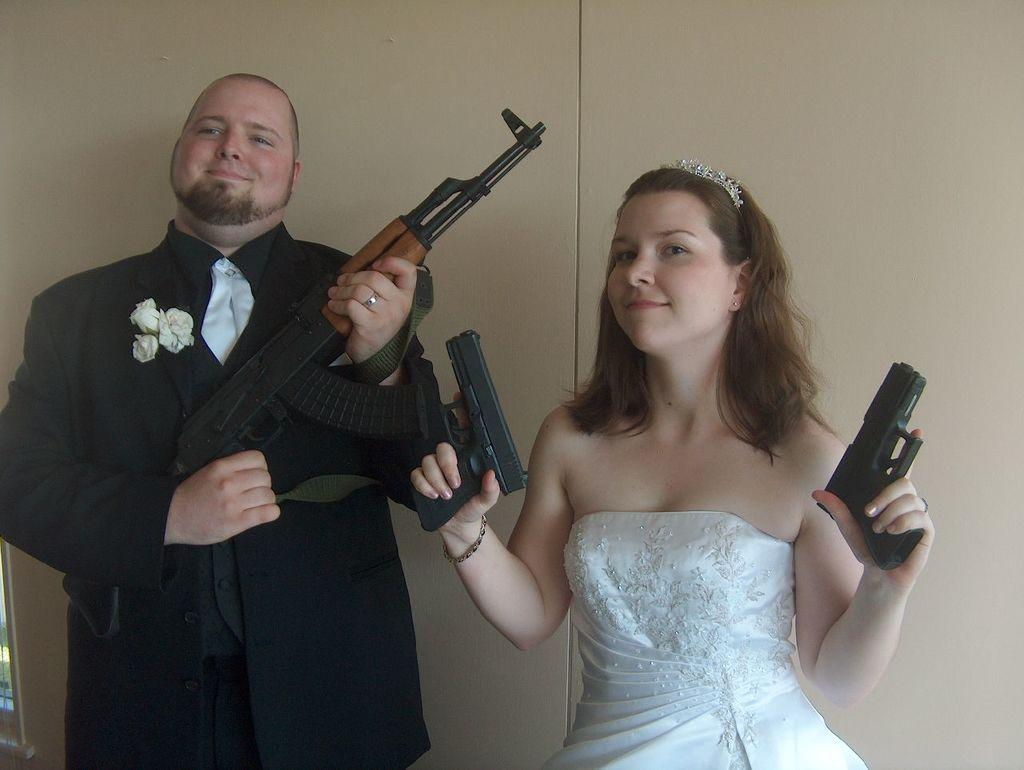Rifle: (167, 106, 549, 475)
